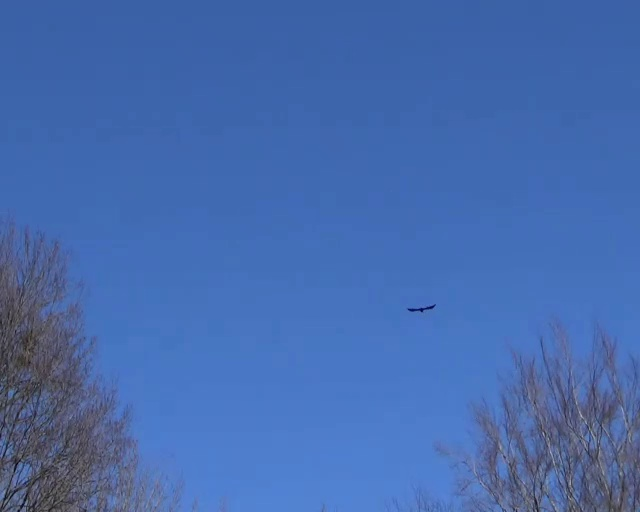BIRD: (406, 303, 436, 313)
